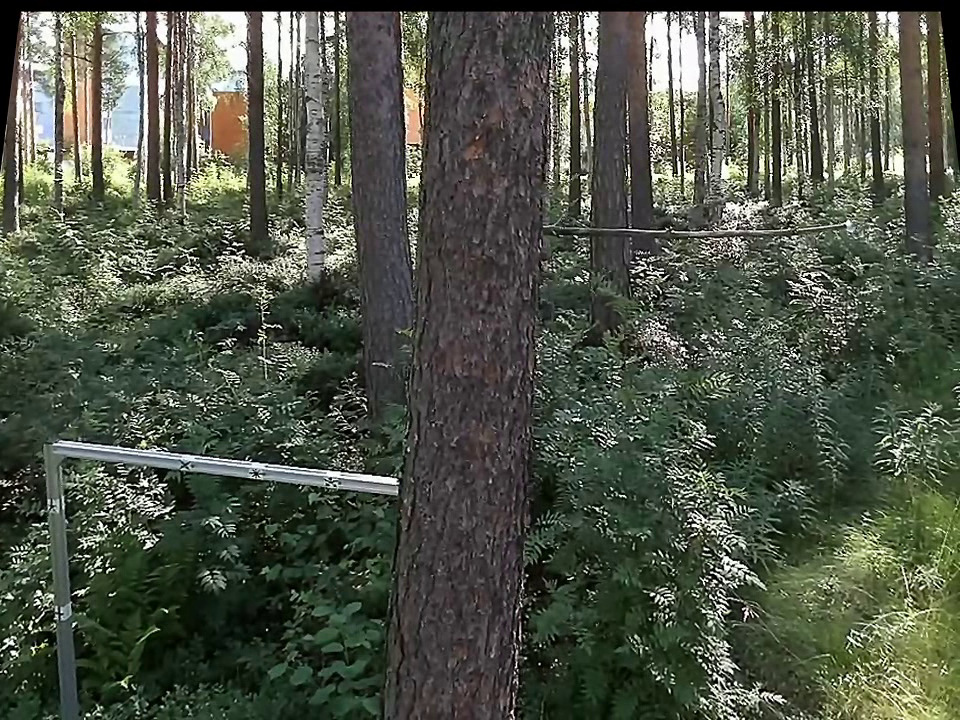aluminum_frame: (51, 425, 405, 508), (36, 433, 89, 714)
branch: (545, 207, 840, 248)
